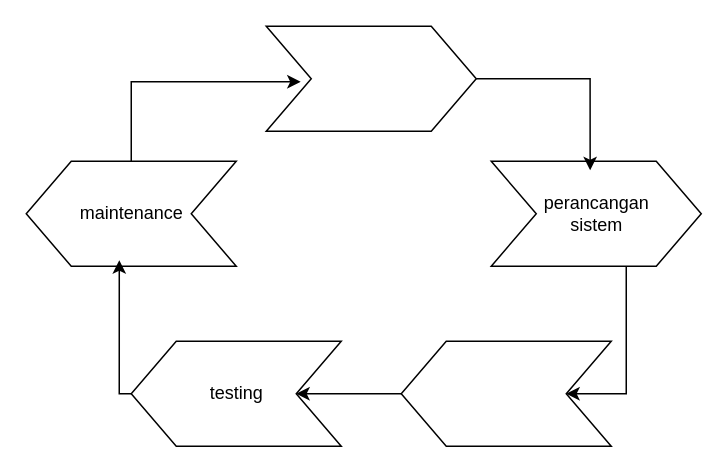
Image size: 728x473. Some labels were removed from this diagram. The centre of each missing label's shape, as x and y in pixels:
"analisis parameter" belongs at point 370,78.
"pembangunan" belongs at point 505,393.
